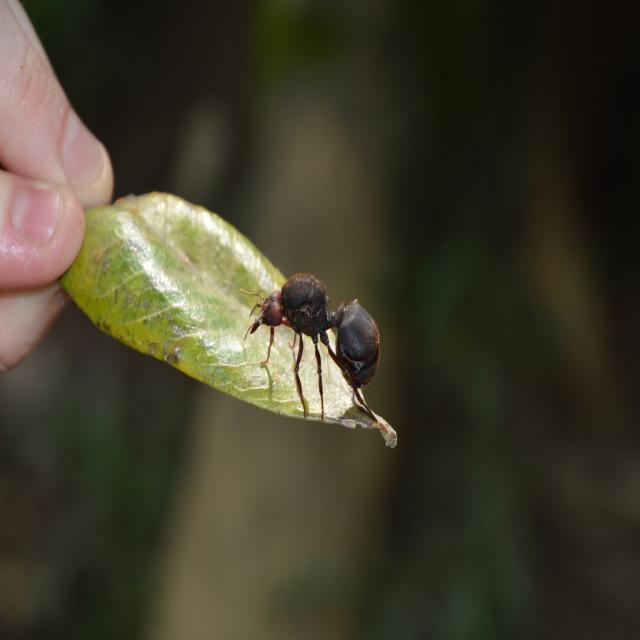Alive-Female-Dealate: (240, 272, 388, 434)
